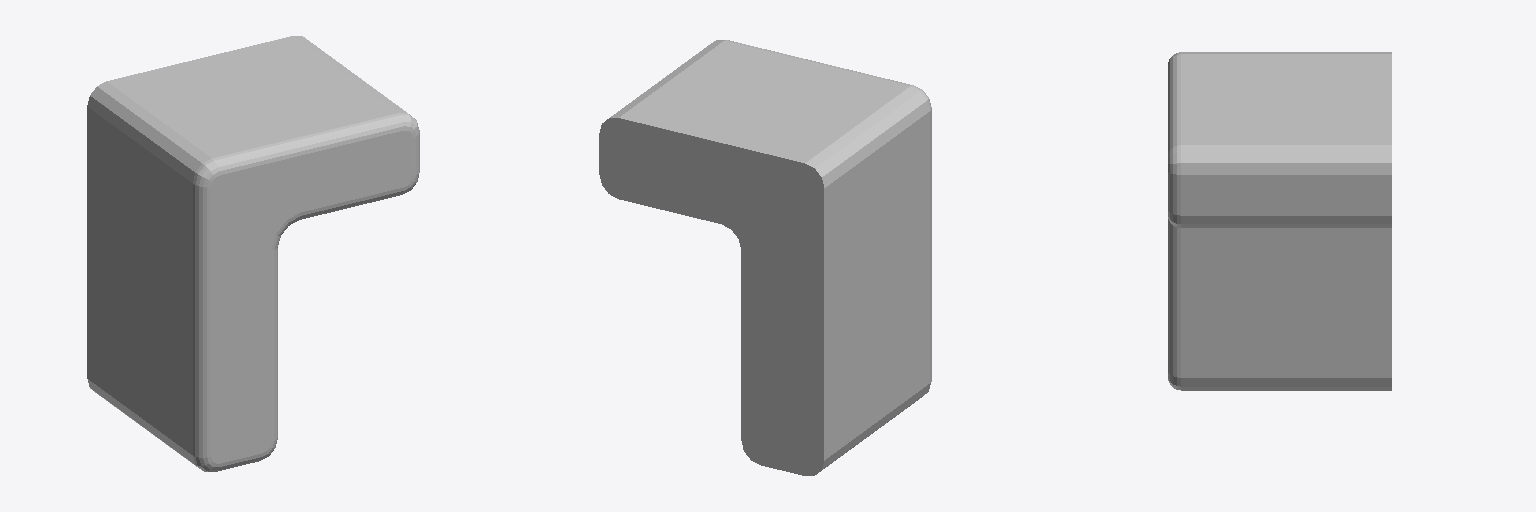
File: 2_L_Wall_Mirror.obj
3 views of the same model, side by side, from view 1: azimuth 30°, elevation 25°; view 2: azimuth 150°, elevation 25°; view 3: azimuth 270°, elevation 25° (orthographic).
Parts seen in each view (by area): view 1: L_Wall_Mirror_Plane.005; view 2: L_Wall_Mirror_Plane.005; view 3: L_Wall_Mirror_Plane.005.
Boxes of the visible parts, box(x1,y1,x2,y2) form: L_Wall_Mirror_Plane.005: box(87, 36, 419, 471); L_Wall_Mirror_Plane.005: box(599, 40, 931, 475); L_Wall_Mirror_Plane.005: box(1168, 52, 1391, 390).
Bounding box in the file's own units: 5.79 × 7.69 × 5.